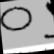no answer: (0, 1, 37, 36)
